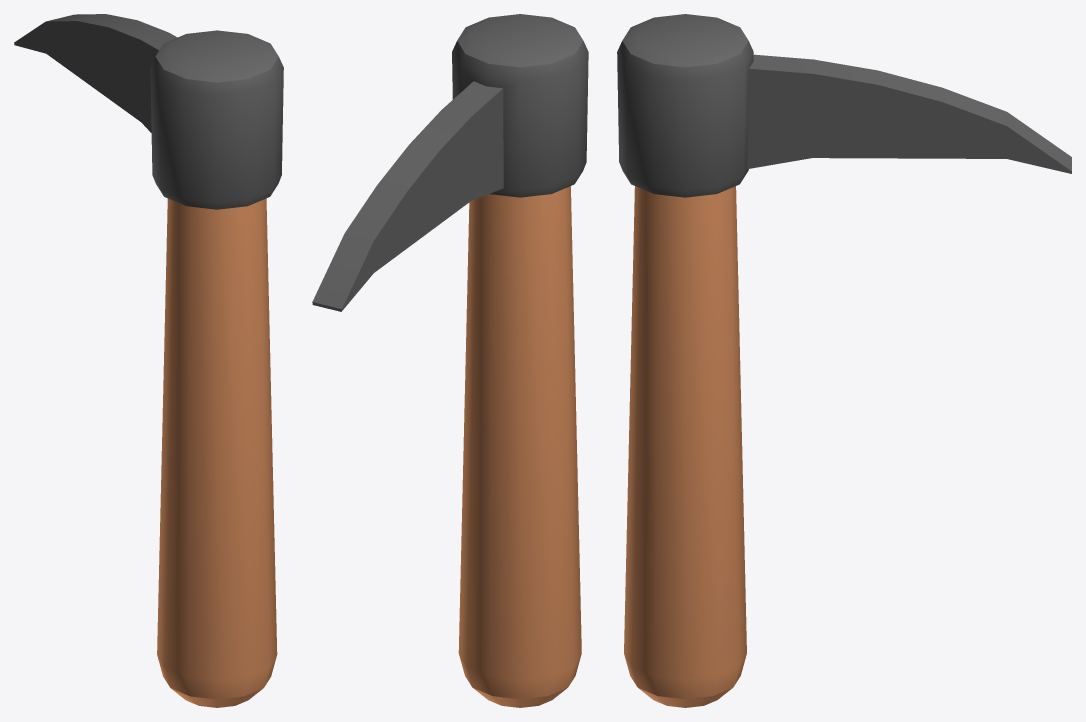
Rendered from Sytche.fbx.
The picture shows the model from 3 angles, left to right: view 1: azimuth 30°, elevation 25°; view 2: azimuth 150°, elevation 25°; view 3: azimuth 270°, elevation 25°; orthographic projection. The views are drawn at different scales.
Parts seen in each view (by area): view 1: Sytche; view 2: Sytche; view 3: Sytche.
Boxes of the visible parts, bbox=[...] form: Sytche: bbox=[14, 14, 283, 707]; Sytche: bbox=[312, 14, 588, 707]; Sytche: bbox=[617, 14, 1071, 707].
Size of the model in its own units: 24.81 by 133 by 82.52.
